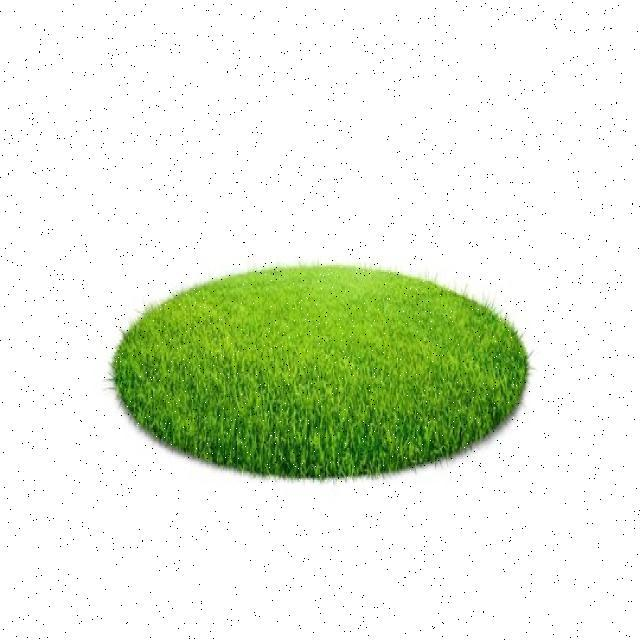Circle: (110, 264, 532, 479)
